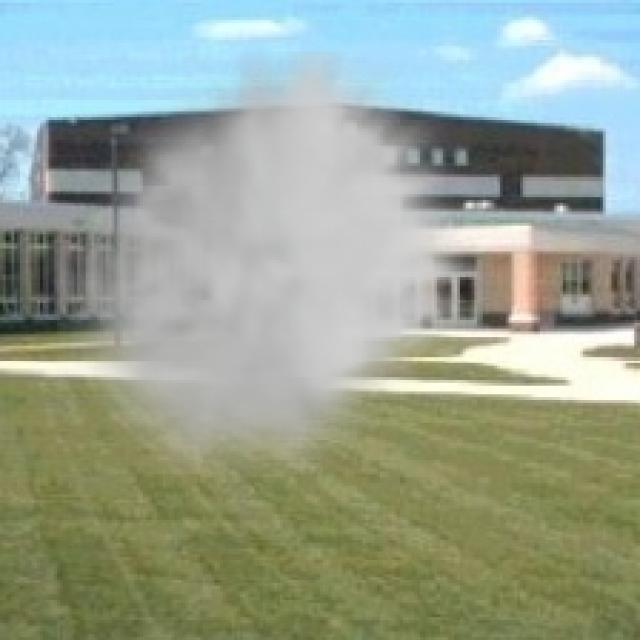smoke: (57, 52, 483, 474)
